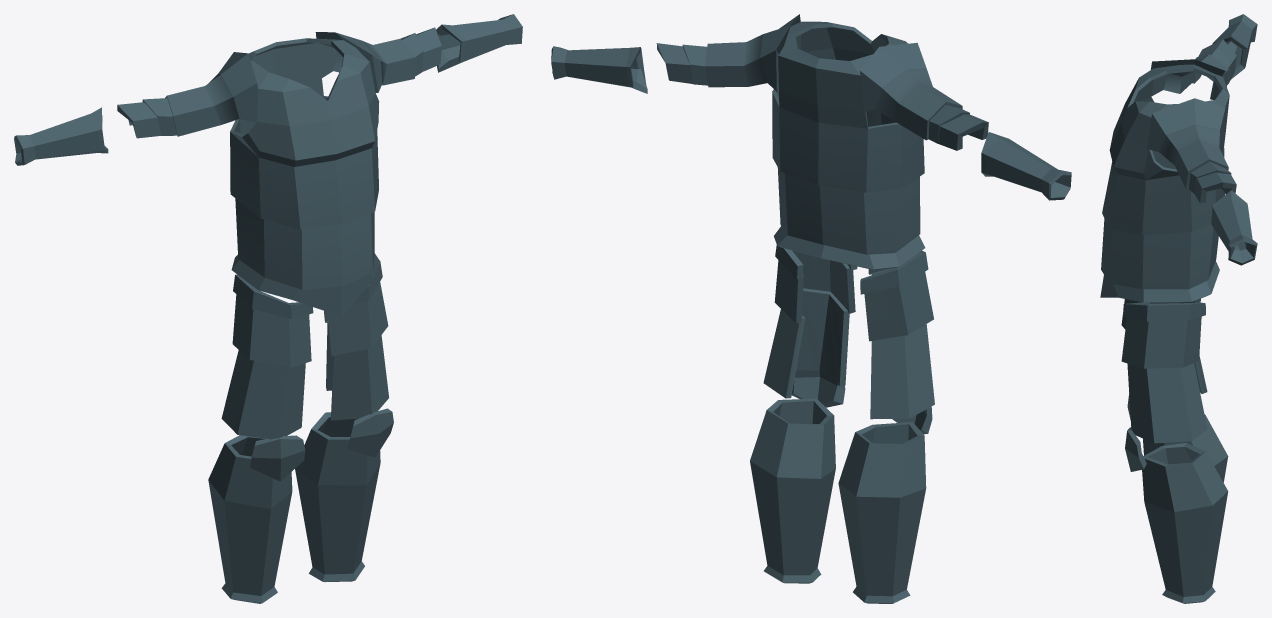
The model's file is Armor.fbx.
3 views of the same model, side by side, from view 1: azimuth 30°, elevation 25°; view 2: azimuth 150°, elevation 25°; view 3: azimuth 270°, elevation 25° (orthographic). The views are drawn at different scales.
Parts seen in each view (by area): view 1: Cuerpo, Gemelos, Piernas, Hombros, Antebrazos, Plane, Brazos; view 2: Cuerpo, Gemelos, Piernas, Hombros, Antebrazos, Brazos, Plane; view 3: Cuerpo, Gemelos, Piernas, Hombros, Antebrazos, Brazos, Plane.
Part boxes in pixels (x1,y1,x2,y2): Cuerpo: [230, 38, 379, 316]; Gemelos: [208, 412, 380, 603]; Piernas: [221, 261, 389, 439]; Hombros: [165, 32, 416, 136]; Antebrazos: [14, 14, 522, 165]; Plane: [250, 408, 393, 481]; Brazos: [117, 27, 441, 138]; Cuerpo: [772, 21, 925, 269]; Gemelos: [750, 398, 926, 603]; Piernas: [763, 245, 934, 419]; Hombros: [705, 14, 962, 140]; Antebrazos: [551, 46, 1071, 200]; Brazos: [656, 43, 988, 150]; Plane: [792, 370, 932, 434]; Cuerpo: [1100, 64, 1229, 302]; Gemelos: [1142, 414, 1228, 603]; Piernas: [1121, 298, 1207, 443]; Hombros: [1147, 54, 1228, 188]; Antebrazos: [1211, 14, 1257, 265]; Brazos: [1189, 39, 1236, 203]; Plane: [1125, 393, 1146, 471].
Bounding box in the file's own units: 142 × 146 × 41.59.
1 material, 1 textured.
